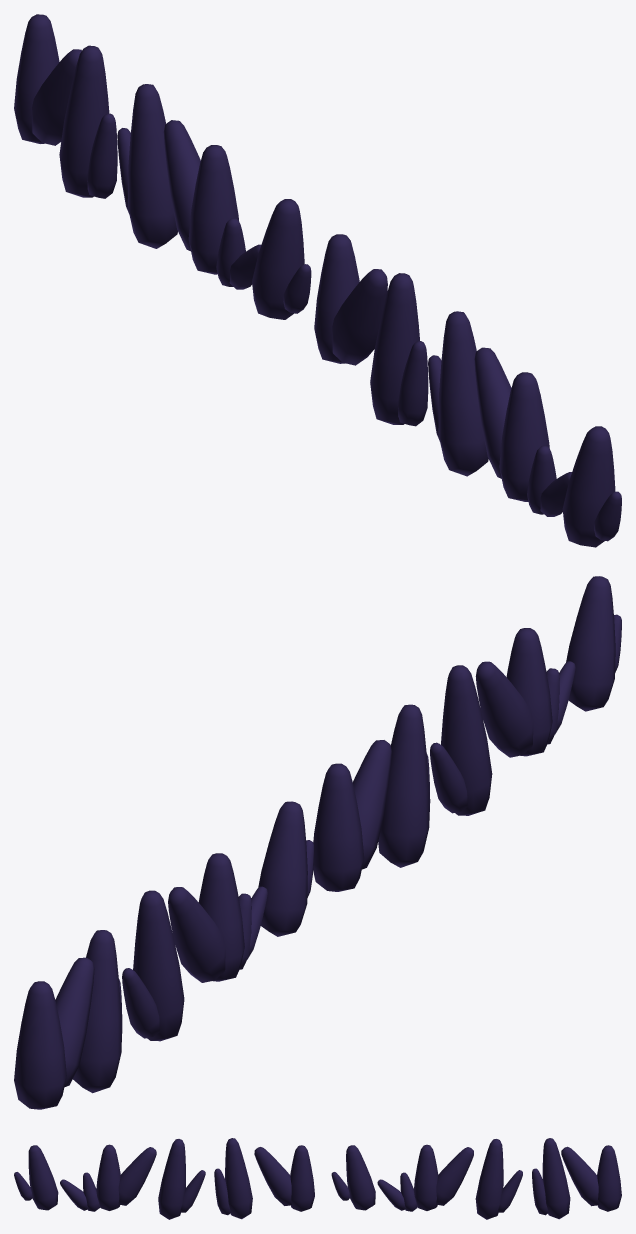
The model's file is FEUILLES.fbx.
3 renders of one model, top to bottom at view 1: azimuth 30°, elevation 25°; view 2: azimuth 150°, elevation 25°; view 3: azimuth 270°, elevation 25°, orthographic. The views are drawn at different scales.
Parts seen in each view (by area): view 1: Cube.001; view 2: Cube.001; view 3: Cube.001.
Boxes of the visible parts, x1=… form: Cube.001: x1=14, y1=14, x2=621, y2=547; Cube.001: x1=14, y1=576, x2=621, y2=1109; Cube.001: x1=14, y1=1138, x2=621, y2=1219.
Bounding box in the file's own units: 28.55 × 84.43 × 576.
